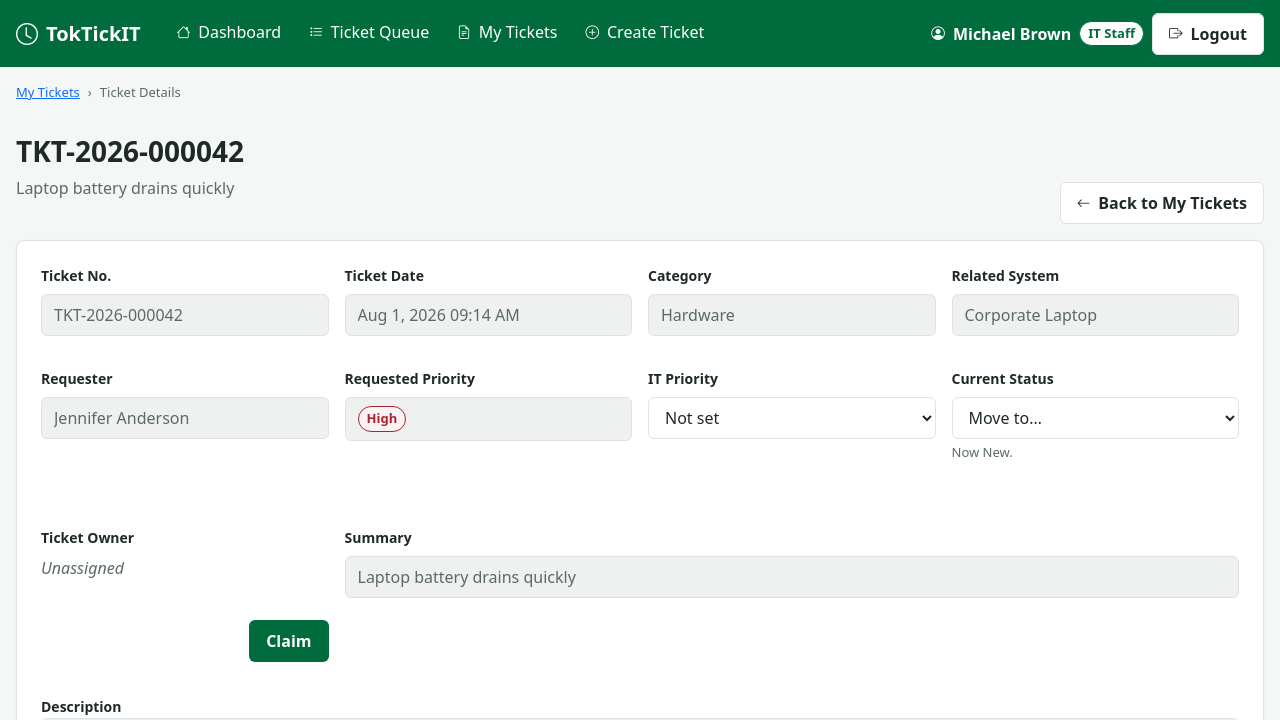
Test case: UI-15 claim, reassign and release › says why when the server refuses the owner, leaving the ticket as it was
This screenshot has width=1280, height=720.
Click the button "Claim". click: [289, 641]
box: [249,620,328,662]
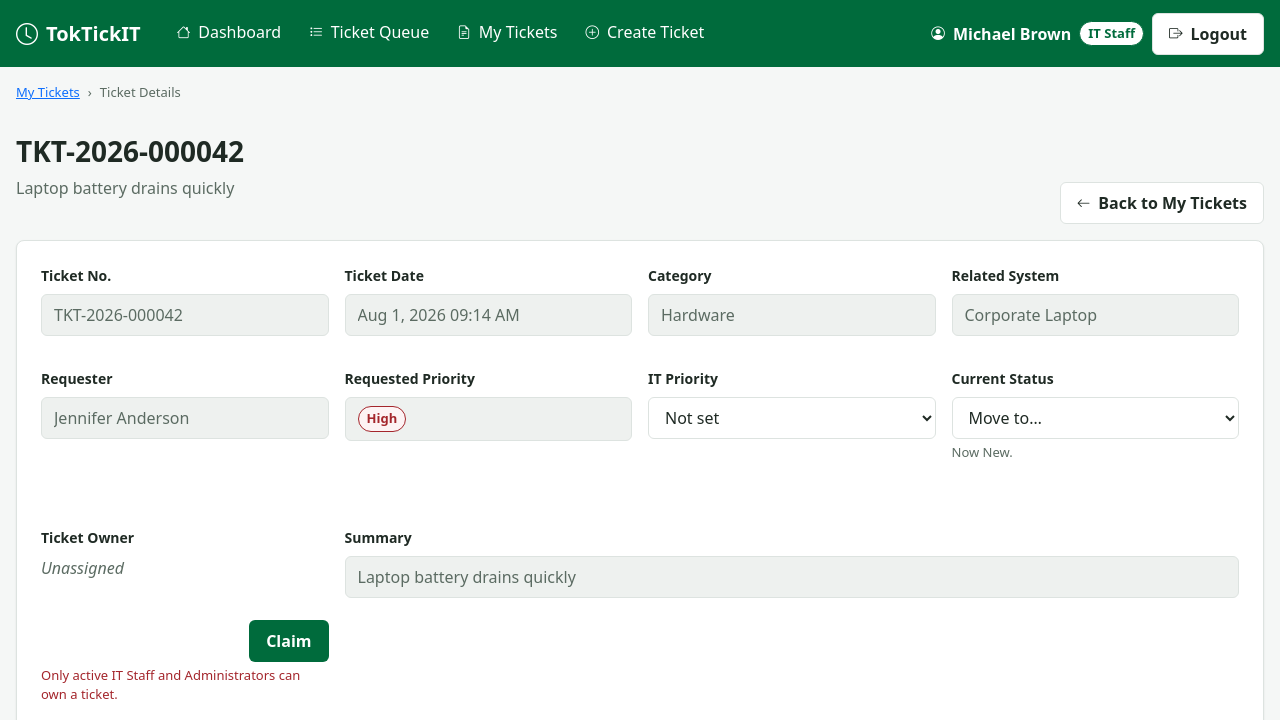
Expected: the text "Unassigned" is shown, [41,557,124,579]
Now the text "Only active IT Staff and Administrators can own a ticket." is shown, box [41,666,328,705]
